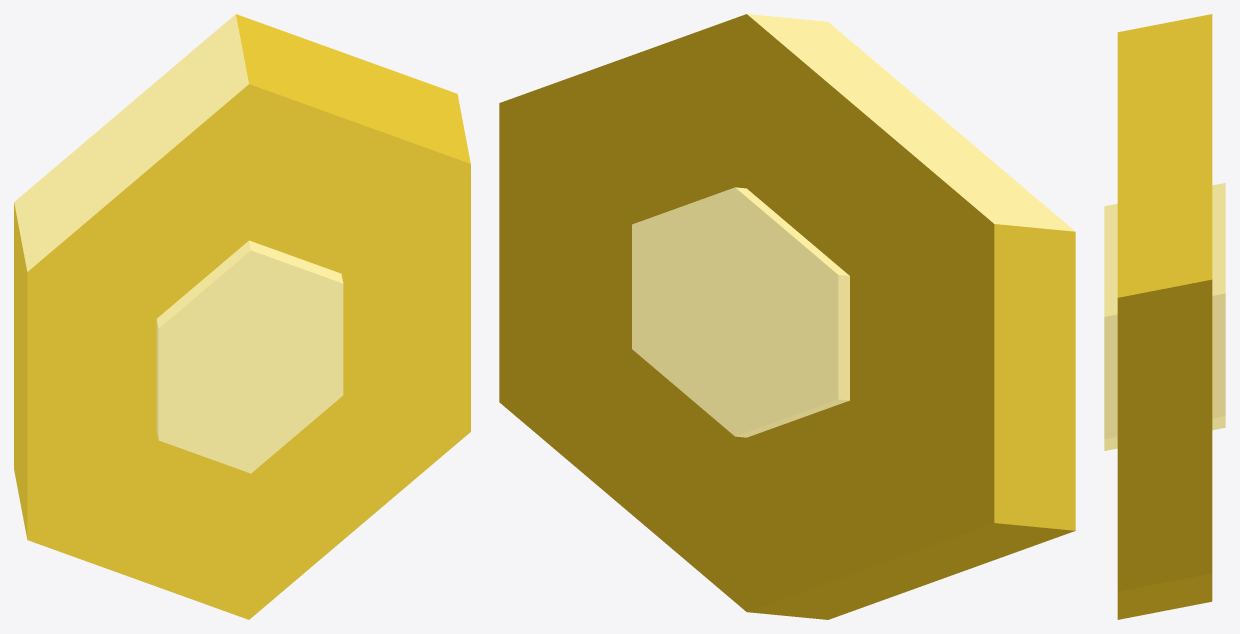
File: Gem_0.gltf
The picture shows the model from 3 angles, left to right: view 1: azimuth 30°, elevation 25°; view 2: azimuth 150°, elevation 25°; view 3: azimuth 270°, elevation 25°; orthographic projection. The views are drawn at different scales.
Parts seen in each view (by area): view 1: Gem_0_baked; view 2: Gem_0_baked; view 3: Gem_0_baked.
Part boxes in pixels (<box>): Gem_0_baked: <box>14,14,470,619</box>; Gem_0_baked: <box>499,14,1075,619</box>; Gem_0_baked: <box>1104,14,1225,619</box>.
Size of the model in its own units: 0.4437 by 0.508 by 0.09.
